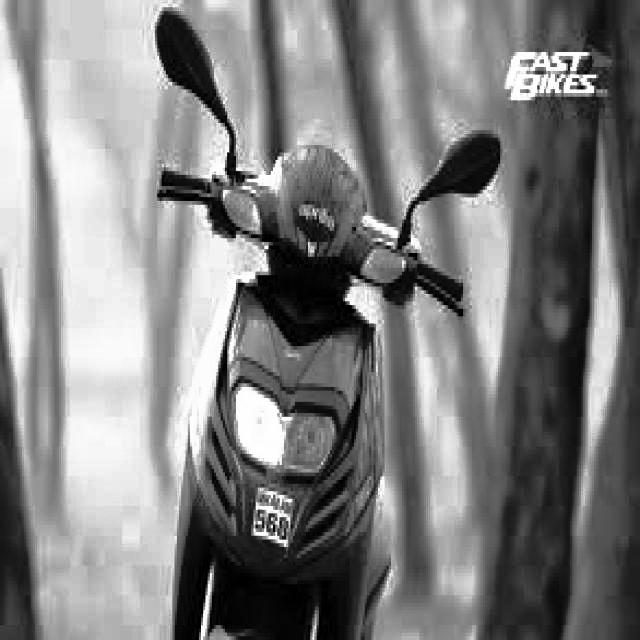Bike: (140, 0, 498, 640)
